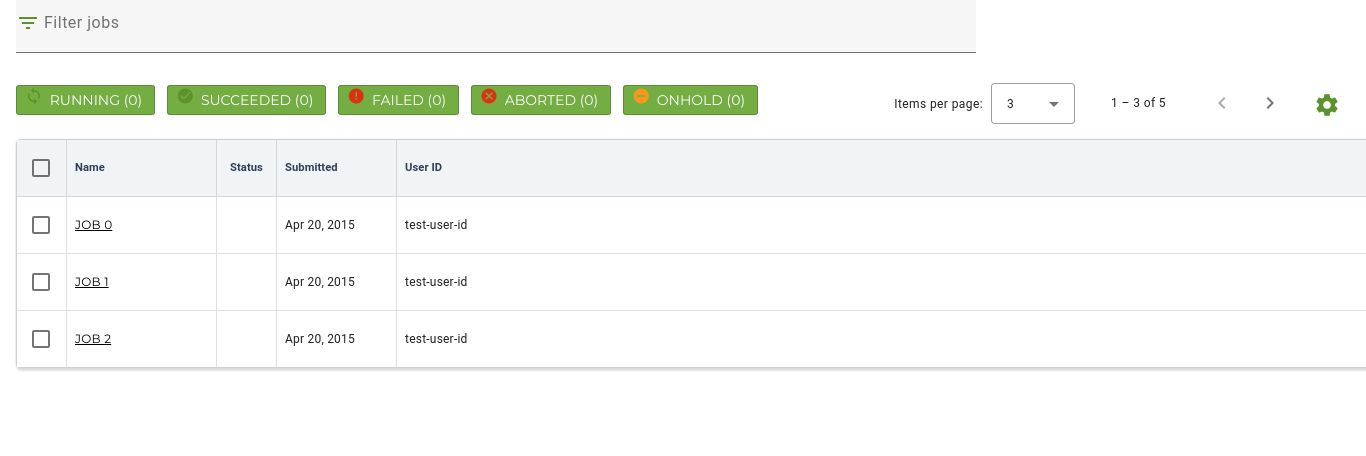
Test: JobListComponent › displays the hide archived setting when the project setting is set
The width and height of the screenshot is (1366, 456).
Click the button with class "settings-icon" at point(1326, 104), box top-left (1302, 80), bottom-right (1350, 128)
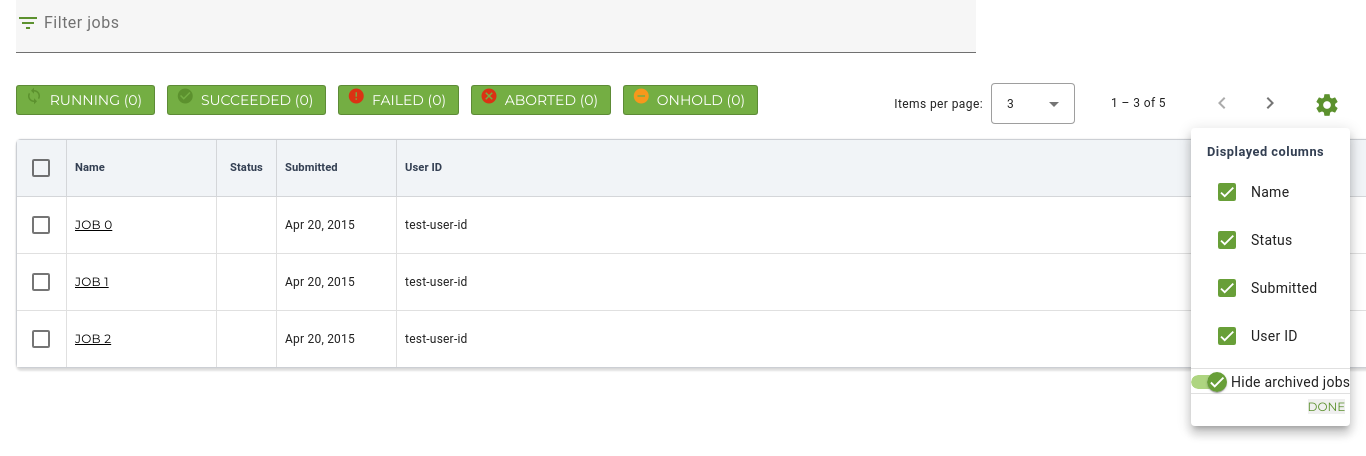
Now the number of elements with class "hide-archived" is 1, box top-left (1191, 369), bottom-right (1350, 393)
